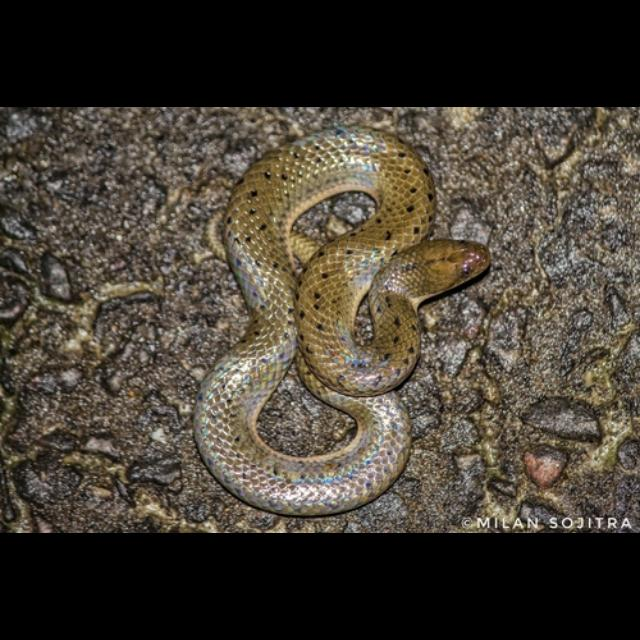snake: (191, 131, 487, 514)
